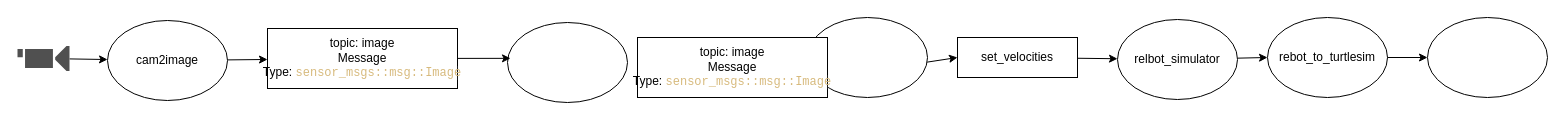
The diagram is 1565 pixels wide and 120 high, and some of its shapes have lost their labels. Here are the shapes that lost their labels. From the top down, the centre of each, then its label:
[567,62]: image_to_pose
[867,57]: sequence_controller
[1487,57]: turtlesim
